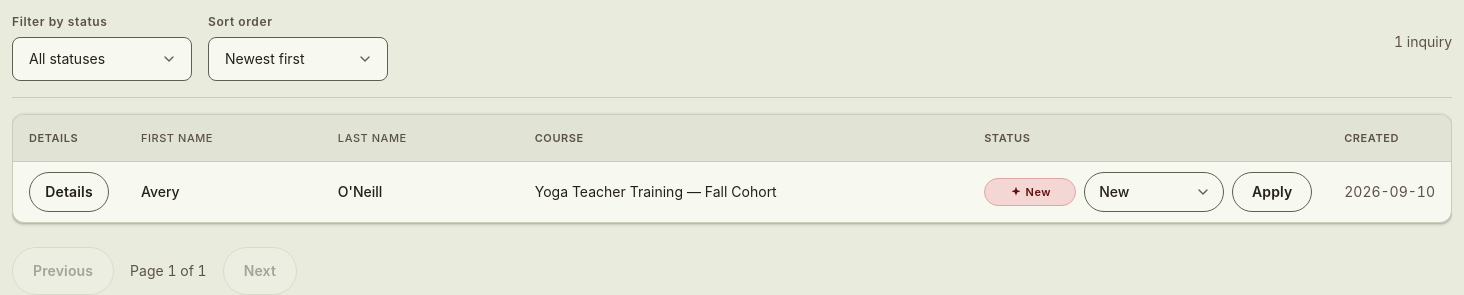
it: IT-UI-025 non-JSON and wrong-shape failures degrade safely › renders a generic recoverable message for a wrong-shape 500 update response
The width and height of the screenshot is (1464, 295).
(page scrolled)
Select "Contacted" in the dropdown named "Status for Avery O'Neill" at (1154, 192), box [1084,172,1224,212]
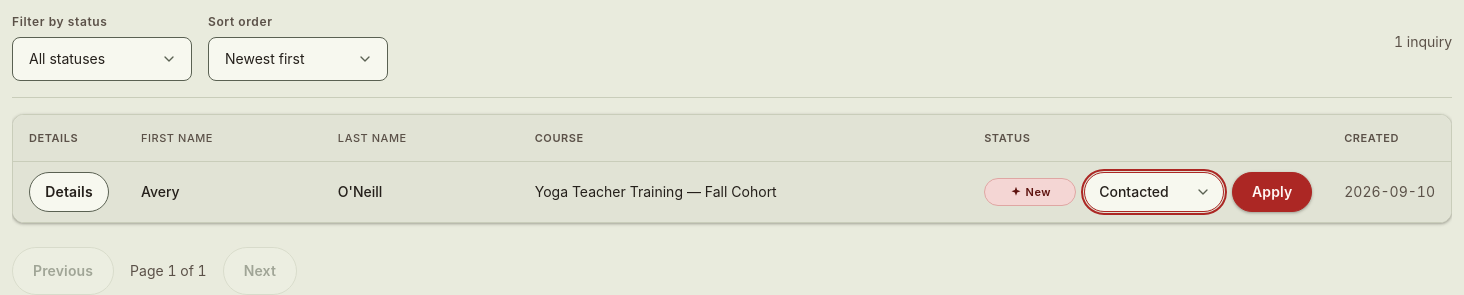
Click the button with aria-label "Apply for Avery O'Neill" at (1272, 192), box [1232,172,1312,212]
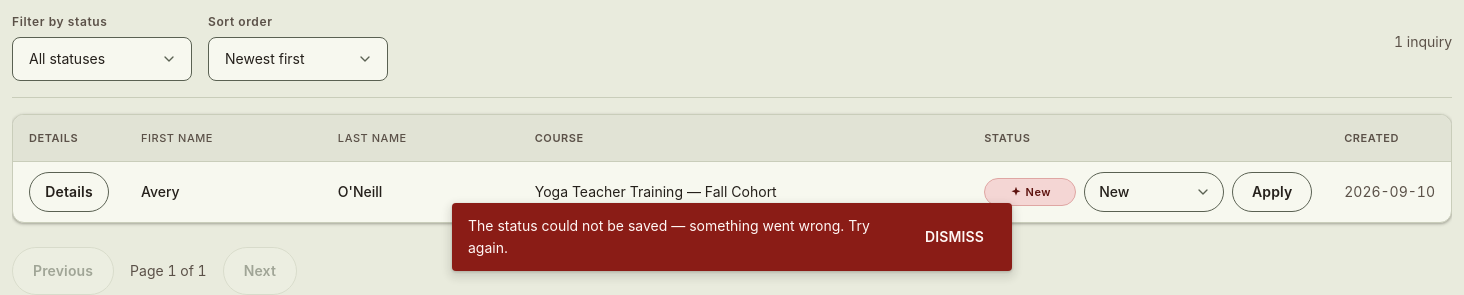
Expected: the row "O'Neill" is shown, [13,162,1451,222]
Now the message reads "The status could not be saved — something went wrong. Try again.", box [468,217,870,256]
